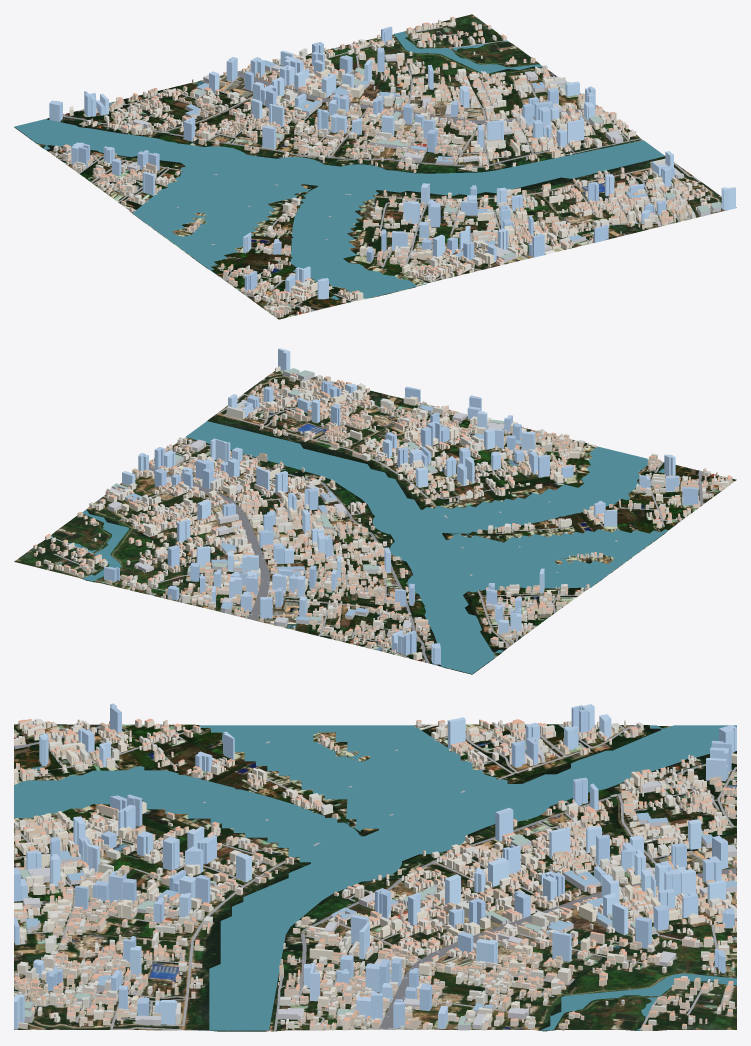
The picture shows the model from 3 angles, top to bottom: view 1: azimuth 30°, elevation 25°; view 2: azimuth 150°, elevation 25°; view 3: azimuth 270°, elevation 25°; orthographic projection. The views are drawn at different scales.
Parts seen in each view (by area): view 1: TERRAIN, BLDG_TUBE_SHOPHOUSE, WATER, BLDG_MODERN_TOWER, BLDG_APARTMENT, ROAD_METRO, BLDG_INDUSTRIAL_PORT; view 2: TERRAIN, BLDG_TUBE_SHOPHOUSE, WATER, BLDG_MODERN_TOWER, BLDG_APARTMENT, ROAD_METRO, BLDG_INDUSTRIAL_PORT; view 3: TERRAIN, BLDG_TUBE_SHOPHOUSE, WATER, BLDG_MODERN_TOWER, BLDG_APARTMENT, ROAD_METRO, BLDG_INDUSTRIAL_PORT.
Boxes of the visible parts, x1,y1,x2,y2 form: TERRAIN: [14, 14, 736, 319]; BLDG_TUBE_SHOPHOUSE: [53, 16, 711, 317]; WATER: [14, 31, 664, 302]; BLDG_MODERN_TOWER: [49, 26, 735, 299]; BLDG_APARTMENT: [69, 39, 692, 313]; ROAD_METRO: [49, 27, 701, 311]; BLDG_INDUSTRIAL_PORT: [127, 54, 721, 262]; TERRAIN: [14, 370, 736, 674]; BLDG_TUBE_SHOPHOUSE: [33, 366, 732, 662]; WATER: [51, 421, 676, 673]; BLDG_MODERN_TOWER: [104, 348, 698, 665]; BLDG_APARTMENT: [106, 383, 728, 660]; ROAD_METRO: [51, 379, 715, 662]; BLDG_INDUSTRIAL_PORT: [107, 368, 521, 628]; TERRAIN: [14, 724, 736, 1031]; BLDG_TUBE_SHOPHOUSE: [14, 718, 736, 1030]; WATER: [14, 725, 736, 1030]; BLDG_MODERN_TOWER: [14, 703, 736, 1029]; BLDG_APARTMENT: [14, 719, 736, 1030]; ROAD_METRO: [14, 724, 736, 1030]; BLDG_INDUSTRIAL_PORT: [19, 747, 736, 1030].
Bounding box in the file's own units: 2000 × 90.43 × 2000.
7 materials, 1 textured.
